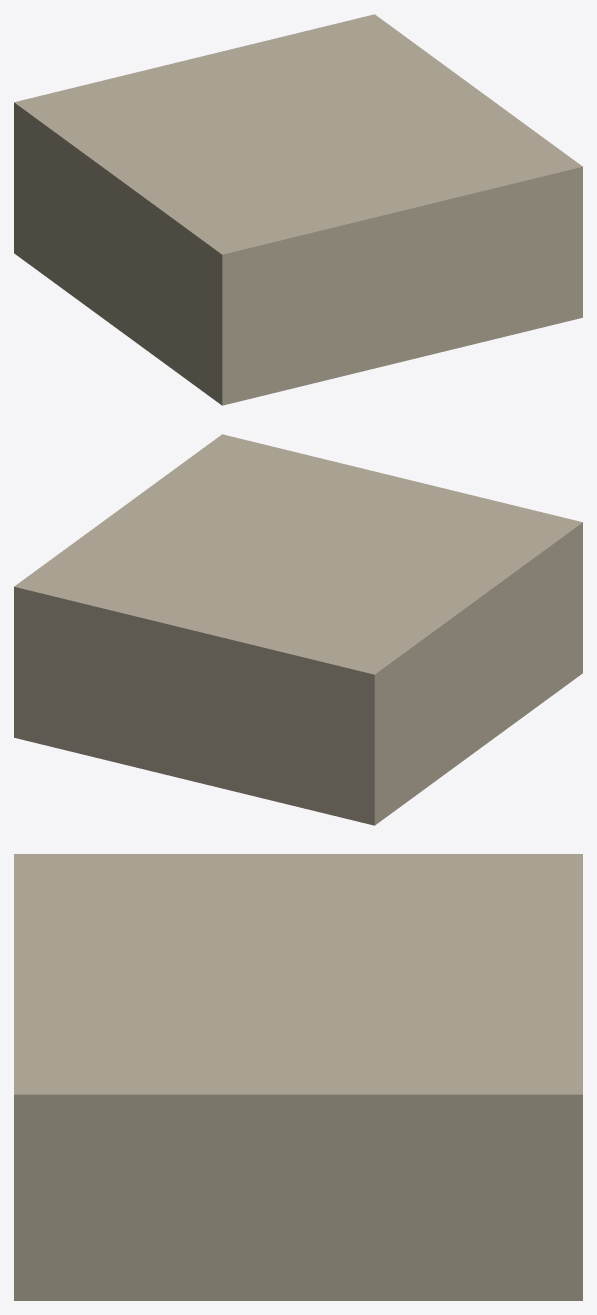
The model's file is grain_storage.glb.
3 renders of one model, top to bottom at view 1: azimuth 30°, elevation 25°; view 2: azimuth 150°, elevation 25°; view 3: azimuth 270°, elevation 25°, orthographic. The views are drawn at different scales.
Visible parts, largest first — view 1: Grain_Storage_Door; view 2: Grain_Storage_Door; view 3: Grain_Storage_Door.
Boxes of the visible parts, x1=… form: Grain_Storage_Door: x1=14, y1=14, x2=582, y2=405; Grain_Storage_Door: x1=14, y1=434, x2=582, y2=825; Grain_Storage_Door: x1=14, y1=854, x2=582, y2=1300.
Bounding box in the file's own units: 10 × 4 × 10.
